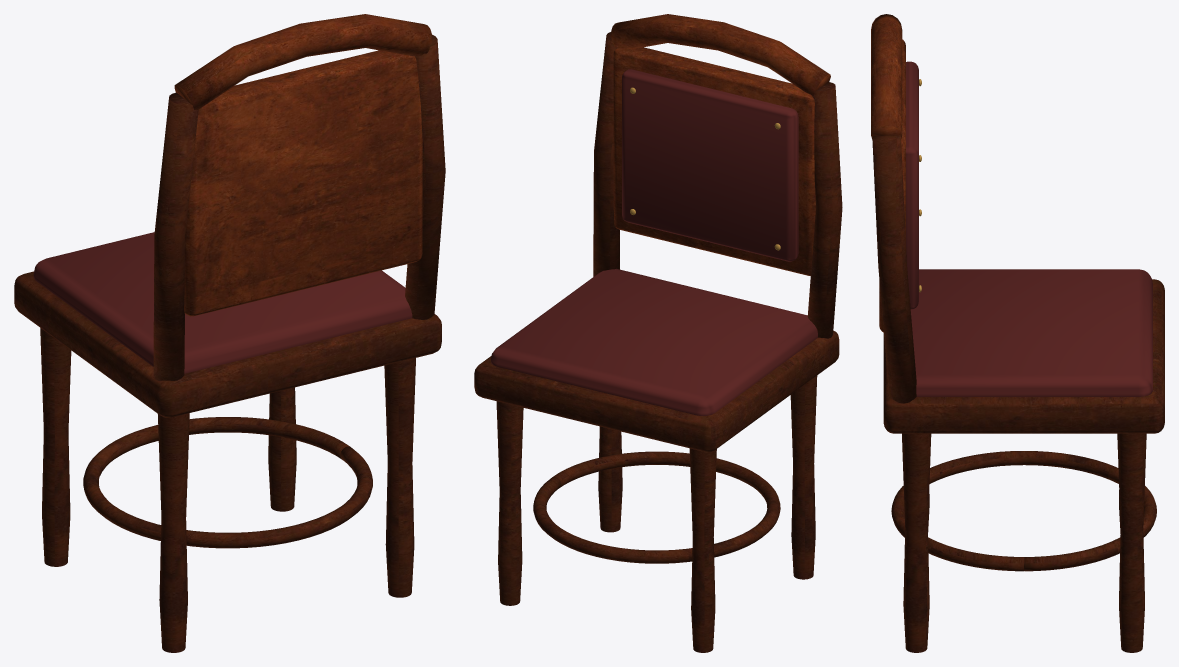
The model's file is kiraathane_chair.glb.
The picture shows the model from 3 angles, left to right: view 1: azimuth 30°, elevation 25°; view 2: azimuth 150°, elevation 25°; view 3: azimuth 270°, elevation 25°; orthographic projection. The views are drawn at different scales.
Parts seen in each view (by area): view 1: ChairBackPanel, ChairCushion, ChairFrame, ChairStretcher, ChairBackArch, ChairBackPost_L, ChairLeg_-1_1, ChairLeg_1_1, ChairBackPost_R, ChairLeg_-1_-1, ChairLeg_1_-1; view 2: ChairCushion, ChairBackLeather, ChairFrame, ChairBackPanel, ChairStretcher, ChairBackArch, ChairBackPost_L, ChairLeg_-1_-1, ChairLeg_1_-1, ChairLeg_-1_1, ChairBackPost_R, ChairLeg_1_1; view 3: ChairCushion, ChairFrame, ChairBackPost_R, ChairStretcher, ChairLeg_1_1, ChairLeg_1_-1, ChairBackArch, ChairBackLeather, ChairBackPanel.
Boxes of the visible parts, box(x1,y1,x2,y2) form: ChairBackPanel: box(184, 50, 422, 316); ChairCushion: box(33, 232, 412, 373); ChairFrame: box(14, 271, 441, 417); ChairStretcher: box(83, 417, 372, 548); ChairBackArch: box(174, 14, 431, 109); ChairBackPost_L: box(153, 92, 198, 380); ChairLeg_-1_1: box(158, 413, 189, 652); ChairLeg_1_1: box(384, 358, 415, 597); ChairBackPost_R: box(405, 34, 445, 319); ChairLeg_-1_-1: box(40, 328, 71, 566); ChairLeg_1_-1: box(268, 387, 296, 511); ChairCushion: box(491, 268, 817, 415); ChairBackLeather: box(622, 69, 798, 261); ChairFrame: box(474, 330, 839, 452); ChairBackPanel: box(613, 47, 815, 275); ChairStretcher: box(533, 451, 780, 563); ChairBackArch: box(611, 14, 830, 95); ChairBackPost_L: box(807, 82, 842, 338); ChairLeg_-1_-1: box(689, 448, 716, 652); ChairLeg_1_-1: box(496, 401, 523, 605); ChairLeg_-1_1: box(790, 375, 817, 579); ChairBackPost_R: box(593, 32, 619, 276); ChairLeg_1_1: box(598, 426, 622, 532); ChairCushion: box(910, 269, 1152, 396); ChairFrame: box(883, 279, 1164, 433); ChairBackPost_R: box(872, 135, 916, 403); ChairStretcher: box(891, 451, 1156, 571); ChairLeg_1_1: box(902, 433, 931, 652); ChairLeg_1_-1: box(1117, 433, 1146, 652); ChairBackArch: box(871, 14, 902, 138); ChairBackLeather: box(906, 61, 918, 309); ChairBackPanel: box(879, 39, 905, 332).
Bounding box in the file's own units: 0.508 × 1.03 × 0.491.
4 materials, 2 textured.
